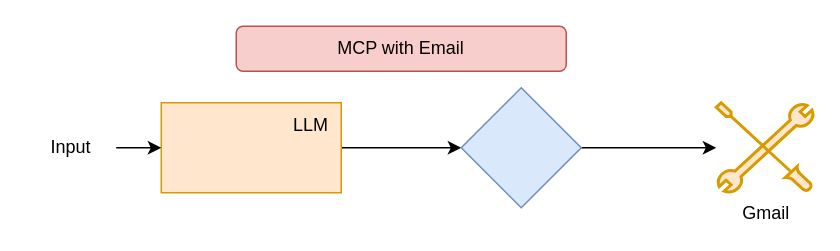
Image size: 840x251. Some labels were removed from this diagram. The shapes that lost their labels are listed below. From the top down, each one's box as (x1, y1, x2, y2) in pixels, then its label:
(160, 101, 341, 193): Agent
(460, 86, 581, 208): N8N MCPTrigger
